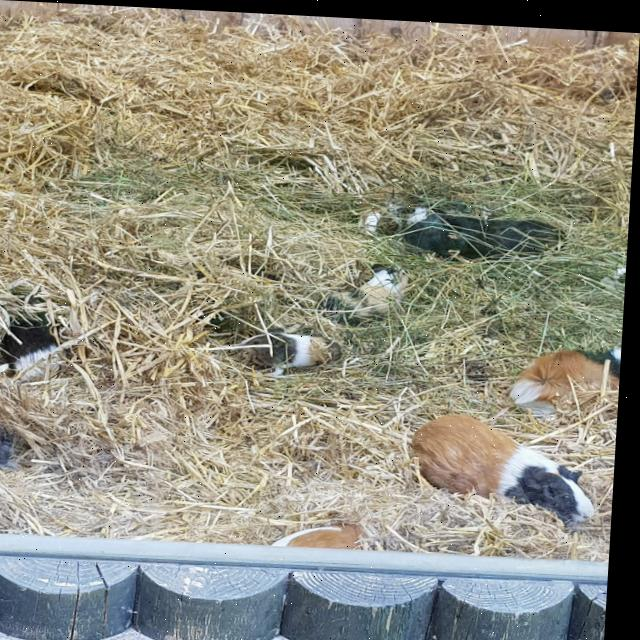guinea pig: (407, 406, 610, 526), (510, 329, 625, 407), (244, 327, 351, 378)
